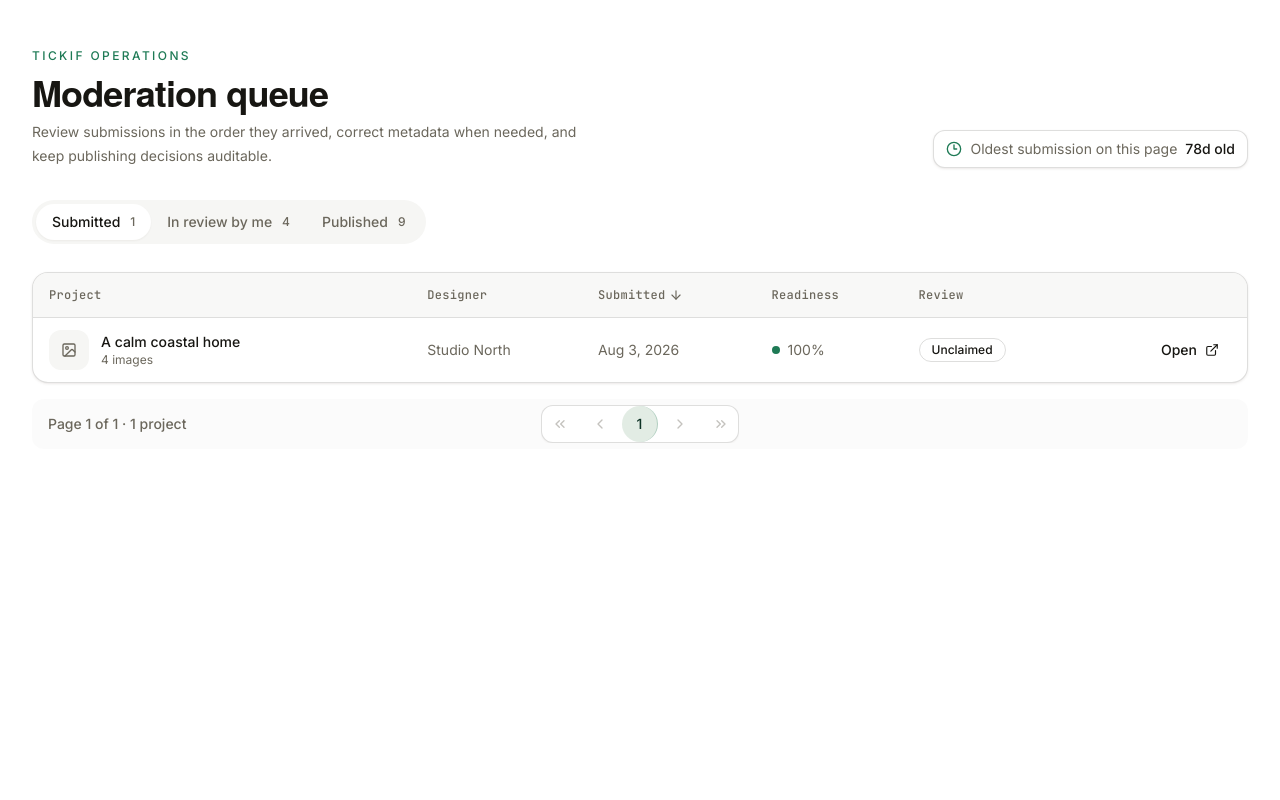
Test: AdminModerationQueue › disables actions when another admin owns the review claim
The image size is (1280, 800).
Step 1. Click the button with aria-label "open review for a calm coastal home" → [1190, 350], box x1=1149 y1=332 x2=1231 y2=368
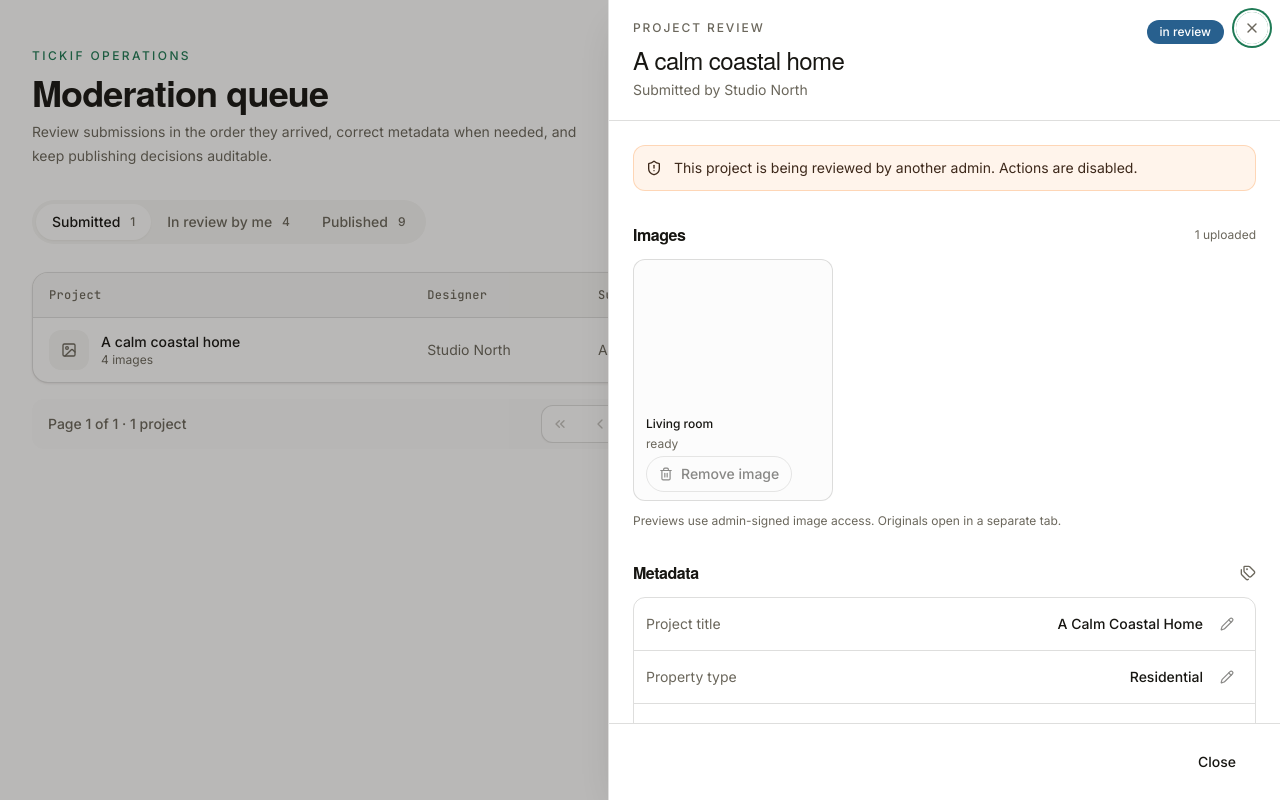
Check: the text "another admin" is shown, box x1=674 y1=159 x2=1138 y2=176
Check: the button named "edit project title" is disabled, box x1=1211 y1=608 x2=1243 y2=640
